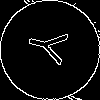Y: (25, 25, 78, 68)
